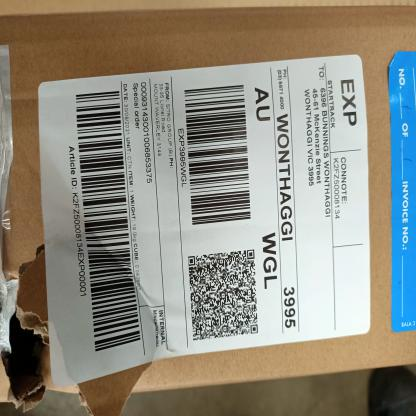label: (42, 52, 376, 384)
package: (0, 6, 416, 408)
